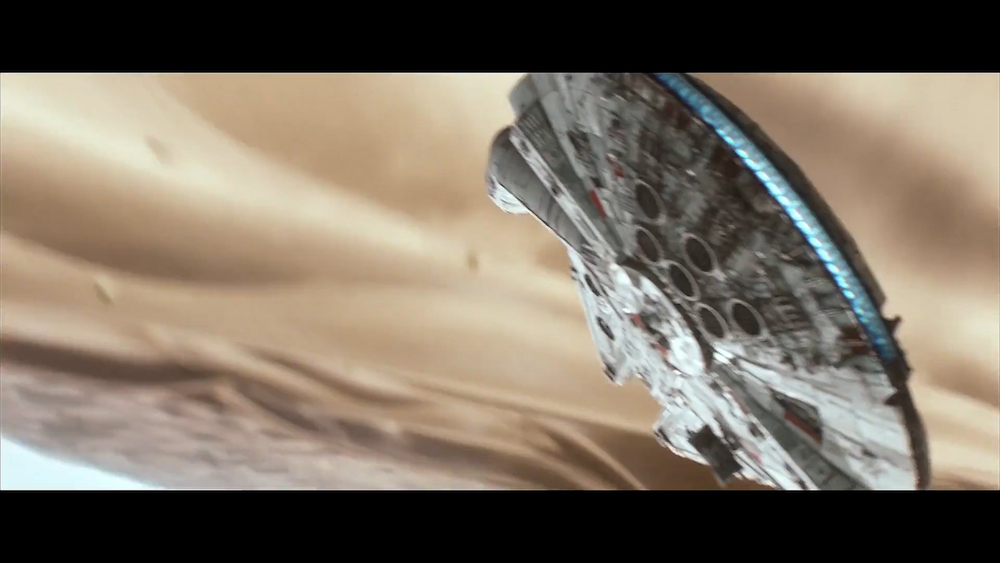Millennium Falcon: (486, 77, 930, 490)
